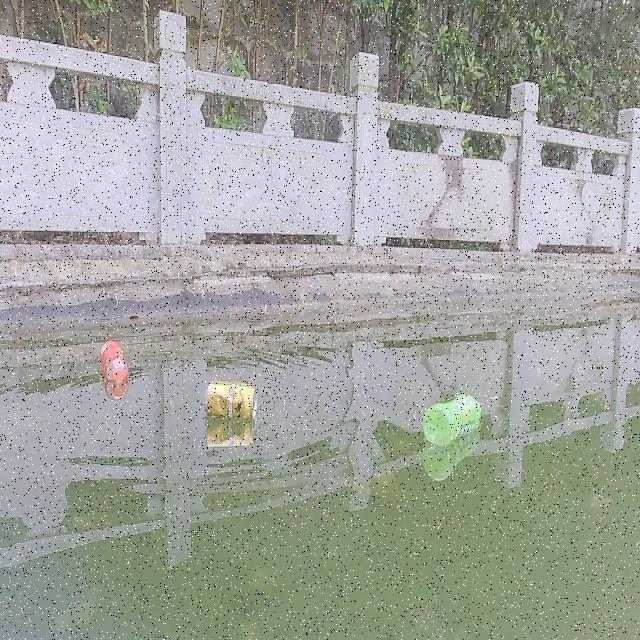Bottle: (416, 380, 493, 456), (92, 332, 142, 404)
Can: (197, 369, 271, 437)
